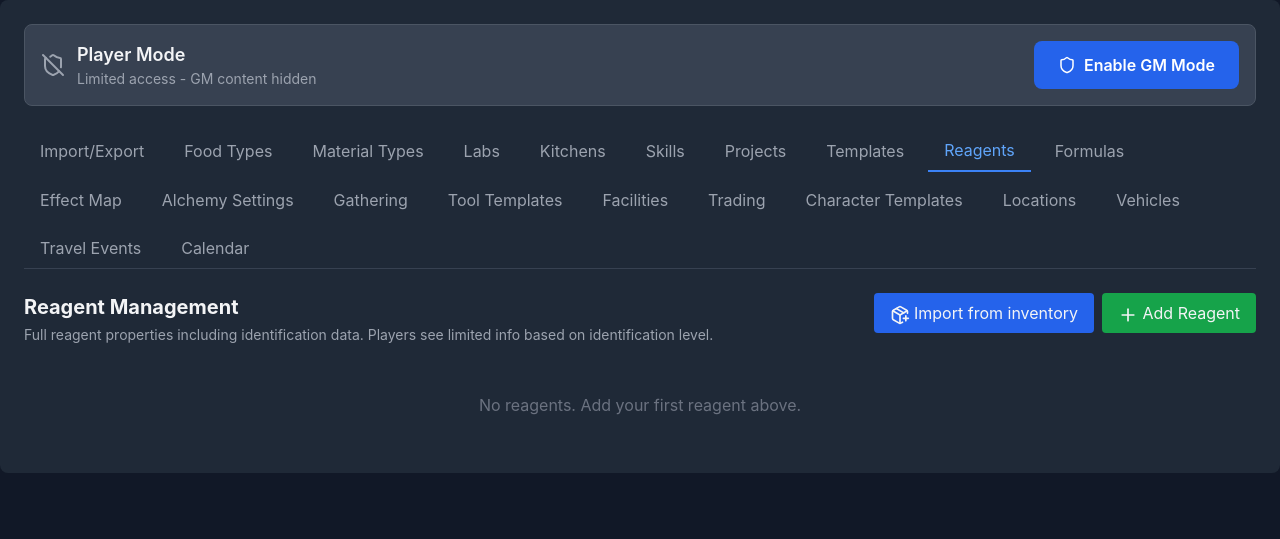
Test: ManagerTab promotion chaining › opens LocationManager from the Locations navigation item
Step 1. Click the button "Locations" → coordinates (1039, 200), box [987,180,1092,220]
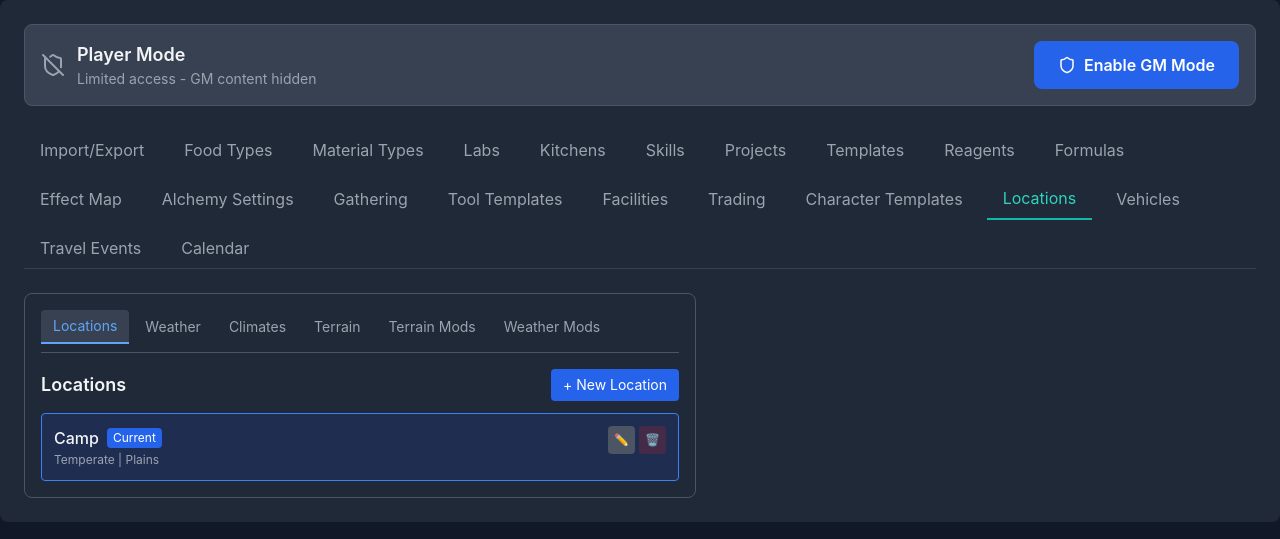
Expected: the heading "Locations" is shown, [41,371,126,399]
Expected: the button "+ New Location" is shown, [551,369,679,401]
